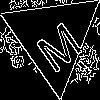M: (28, 13, 86, 75)
